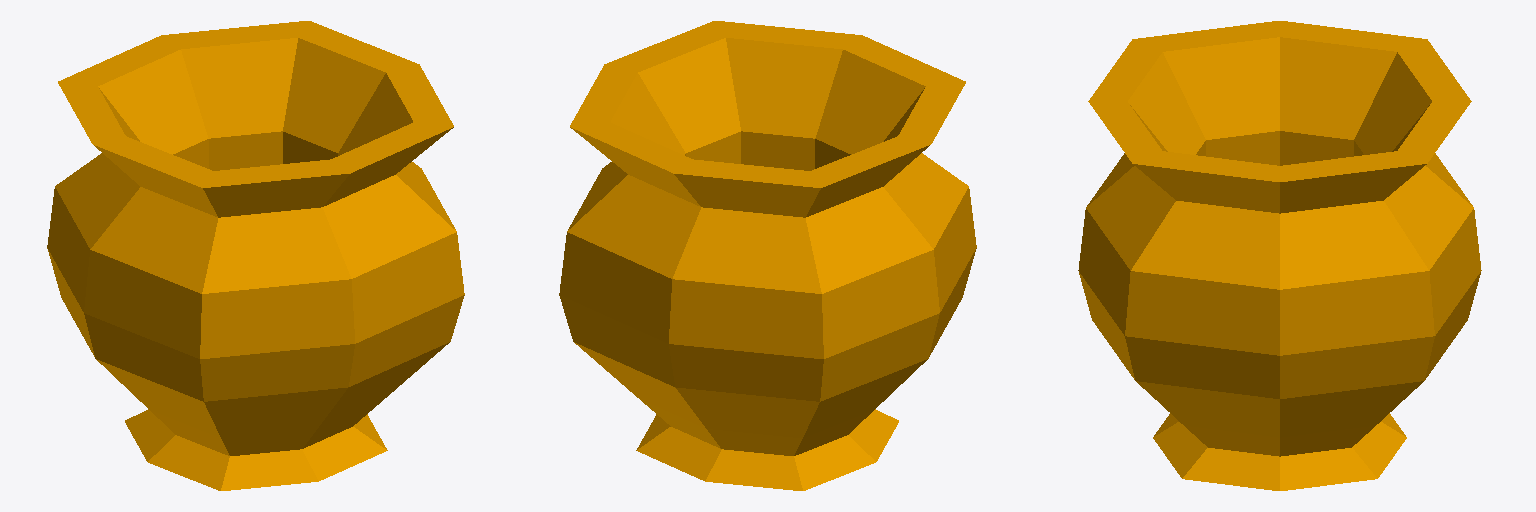
The robot description file, URDF, robot "pot":
<robot name="pot">
  <link name="pot">
    <inertial>
      <origin xyz="0 0 0.0145"/>
      <mass value="0.1" />
      <inertia  ixx="0.0001" ixy="0.0"  ixz="0.0"  iyy="0.0001"  iyz="0.0"  izz="0.0001" />
    </inertial>
    <visual>
      <origin xyz="0 0 0.0145"/>
      <geometry>        
     <mesh filename="pot.dae" scale="1 1 1"/>
    </geometry>
    </visual>
    <collision>
      <origin xyz="0 0 0.0145"/>
      <geometry>
        <box size="0.029 0.029 0.029"/>
      </geometry>
    </collision>
  </link>
  <gazebo reference="pot">
    <material>Gazebo/Blue</material>
  </gazebo>
</robot>

--- What the picture shows (computed from the rendered views, not written in the file) ---
3 views of the same robot in one strip: view 1: azimuth 30°, elevation 25°; view 2: azimuth 150°, elevation 25°; view 3: azimuth 270°, elevation 25° (orthographic).
Robot: pot — 1 links, 0 joints (none); root link pot; default pose: all joints at 0.
Visible links, largest first — view 1: pot; view 2: pot; view 3: pot.
Link boxes in pixels (x1,y1,x2,y2): pot: (47, 21, 464, 490); pot: (559, 21, 976, 490); pot: (1078, 21, 1481, 490).
Bounding box of the posed robot: 0.2159 × 0.2159 × 0.1987 m (x, y, z).
1 mesh visuals loaded from 1 distinct referenced files (1 Collada DAE).